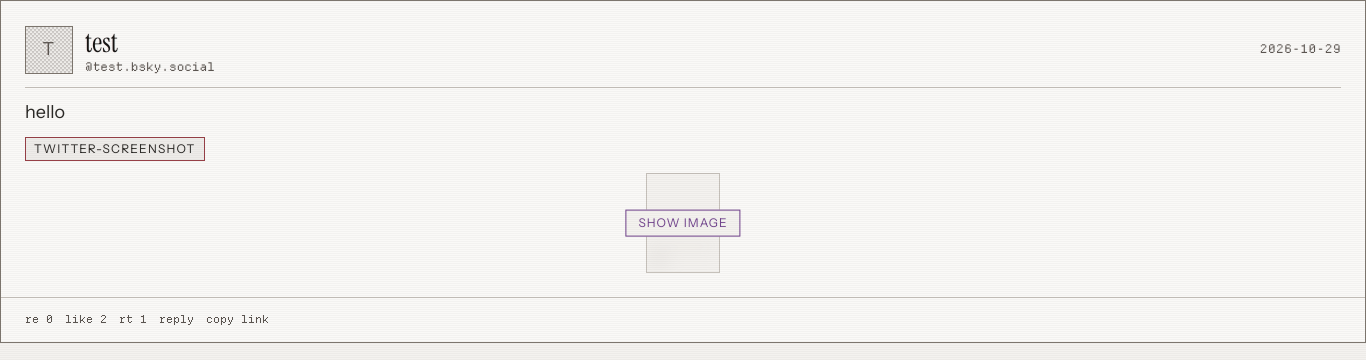
Scenario: PostCard labels › blurs labelled media until the reader asks for it
Click the button "show image" at (683, 223), box left=625, top=210, right=741, bottom=236
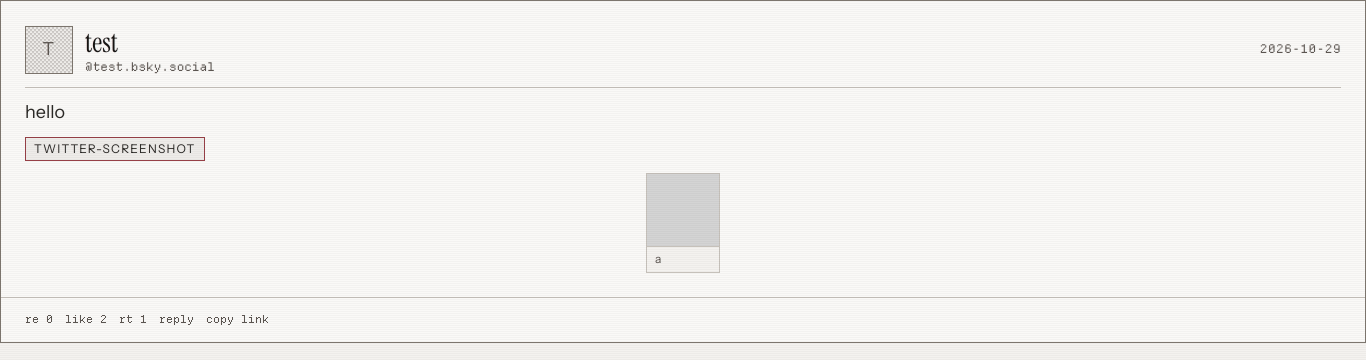
Check: the button "show image" is gone
